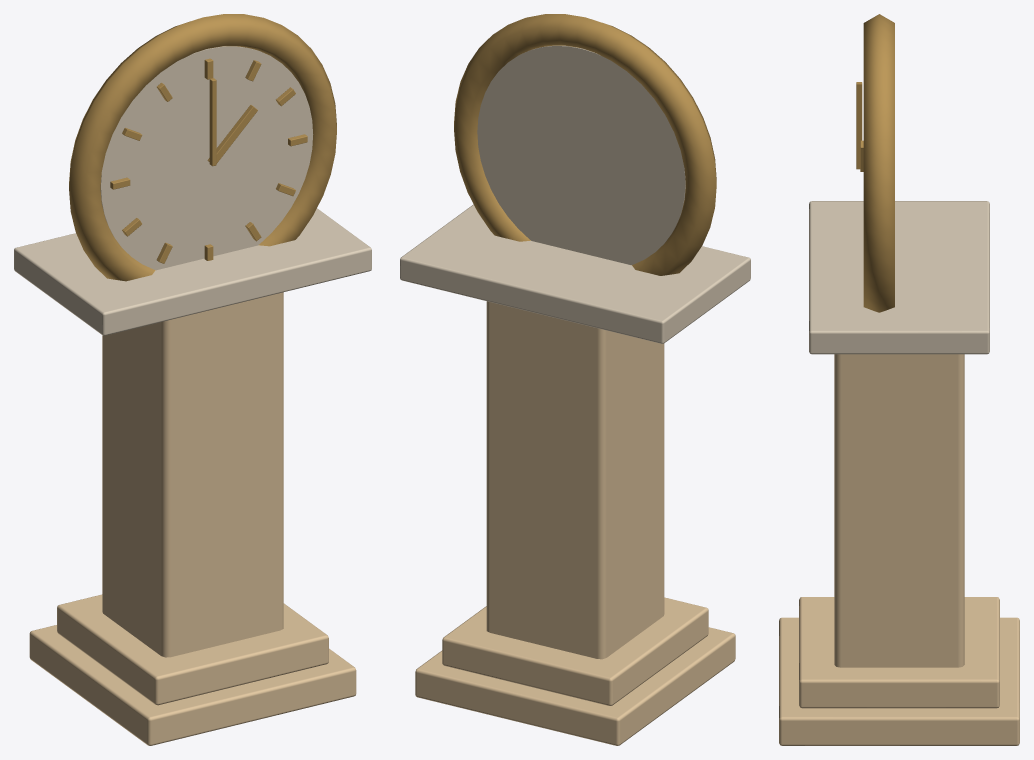
File: clock_monument.glb
The picture shows the model from 3 angles, left to right: view 1: azimuth 30°, elevation 25°; view 2: azimuth 150°, elevation 25°; view 3: azimuth 270°, elevation 25°; orthographic projection. The views are drawn at different scales.
Parts seen in each view (by area): view 1: clock_monument; view 2: clock_monument; view 3: clock_monument.
Part boxes in pixels (bbox=[...]): clock_monument: bbox=[14, 14, 371, 745]; clock_monument: bbox=[400, 14, 750, 745]; clock_monument: bbox=[779, 14, 1019, 745].
Size of the model in its own units: 1.55 by 3.67 by 1.2.
